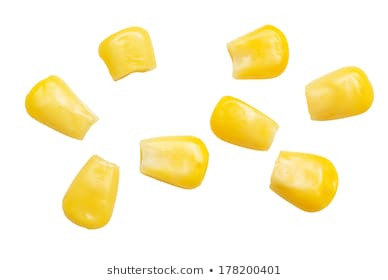corn: (24, 75, 100, 141), (269, 148, 343, 213), (62, 155, 121, 233), (305, 64, 376, 124), (225, 22, 289, 86), (212, 95, 282, 152), (138, 133, 208, 189), (96, 27, 160, 77)
